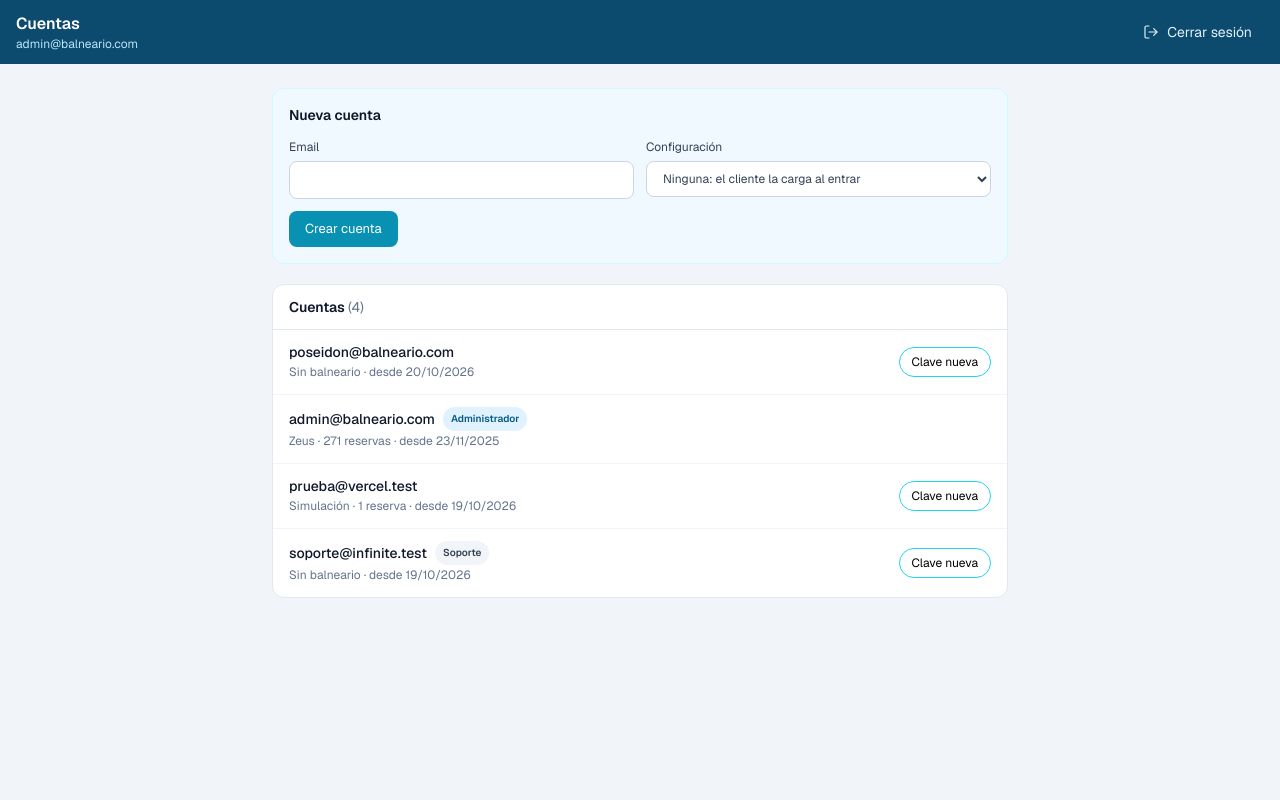
Test case: panel de cuentas › crea una cuenta sin balneario y muestra la clave una vez
The image size is (1280, 800).
Expected: the list named "Cuentas" is shown, [273, 330, 1007, 597]
Type "nuevo@balneario.com" into the field labelled "Email". click: (462, 180)
box: [289, 161, 634, 199]
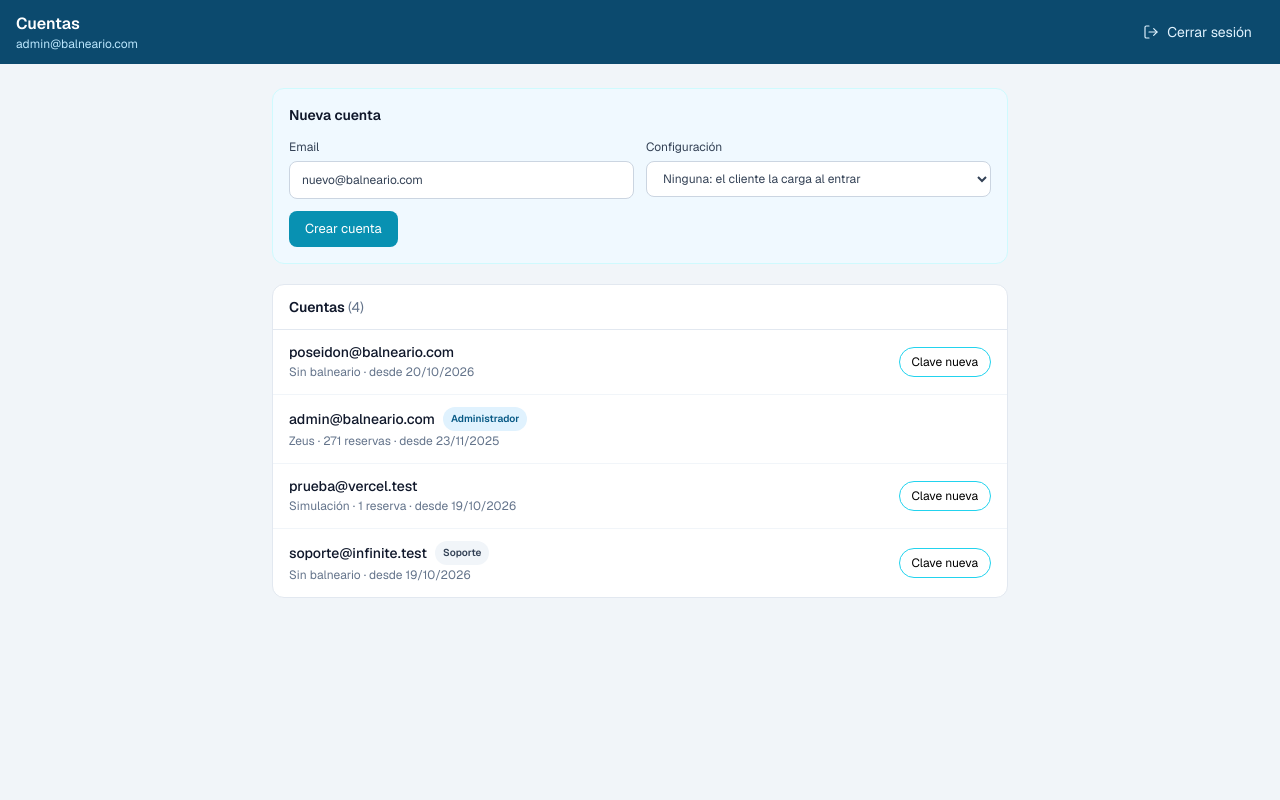
Click the button "Crear cuenta". click: click(343, 229)
box: [289, 211, 398, 247]
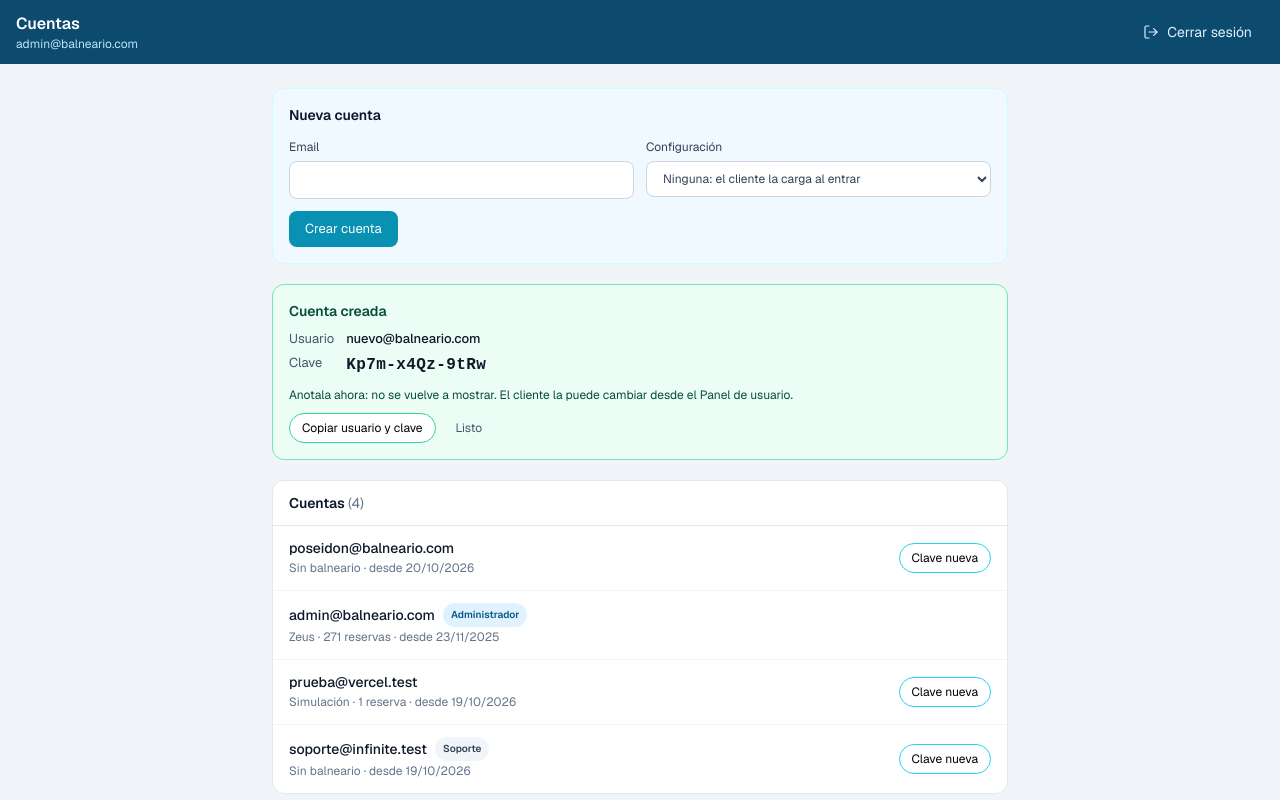
Result: the text "Cuenta creada" is shown at [289, 302, 387, 320]
Result: the text "nuevo@balneario.com" is shown at [346, 330, 480, 347]
Result: the text "Kp7m-x4Qz-9tRw" is shown at [346, 356, 486, 374]
Click the button "Listo". click: click(469, 428)
box: [444, 413, 494, 443]
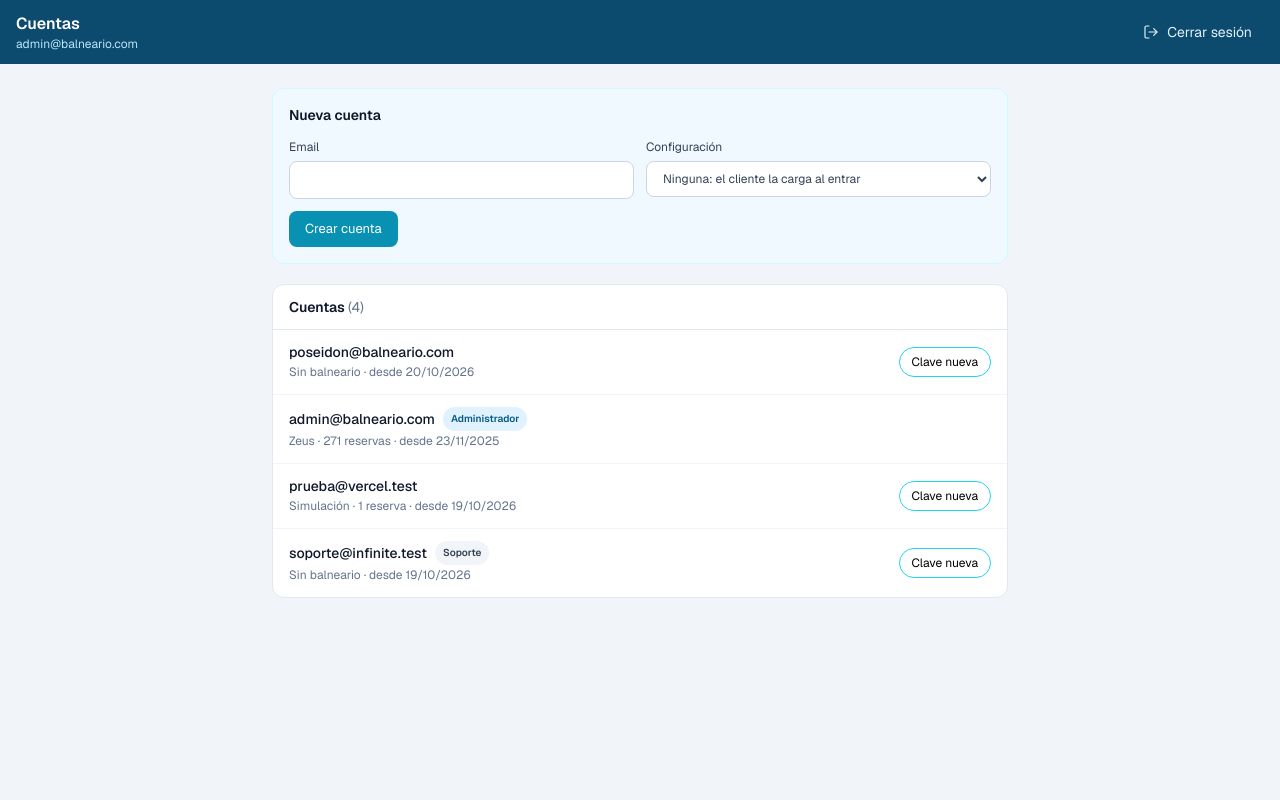
Result: the text "Kp7m-x4Qz-9tRw" is gone
